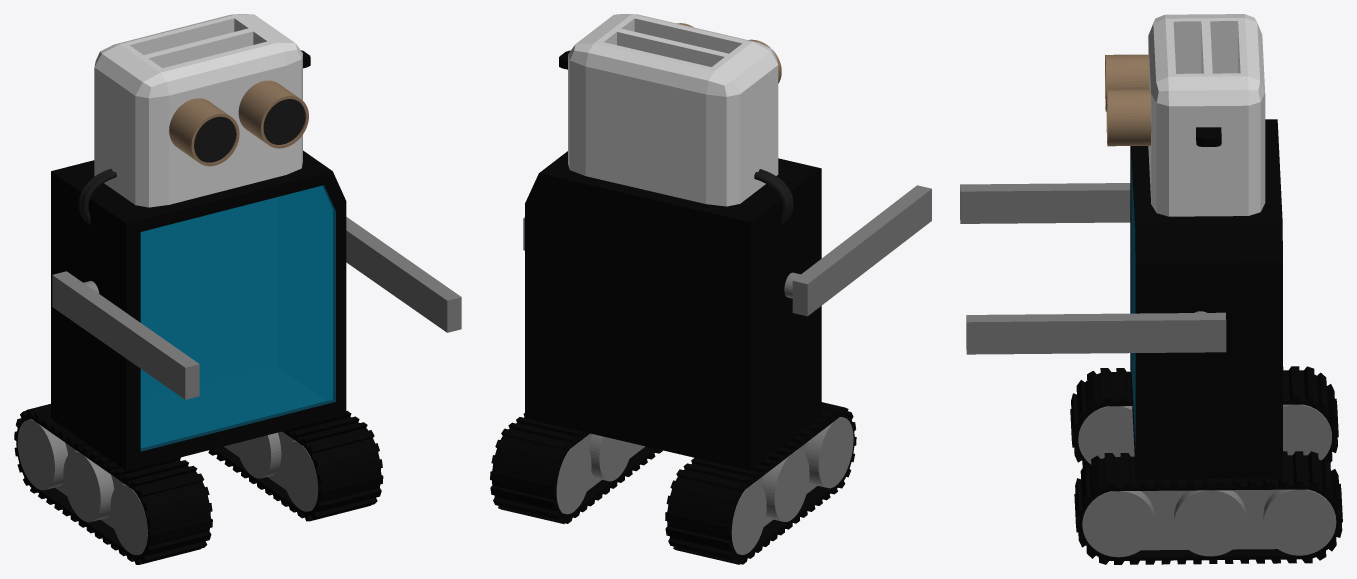
File: toaster.glb
3 views of the same model, side by side, from view 1: azimuth 30°, elevation 25°; view 2: azimuth 150°, elevation 25°; view 3: azimuth 270°, elevation 25° (orthographic).
Parts seen in each view (by area): view 1: Cylinder.010_primitive1, Cylinder.010_primitive5, Cylinder.010_primitive2, Cylinder.010_primitive4, Cylinder.010_primitive3, Cylinder.010_primitive6, Cylinder.010_primitive0; view 2: Cylinder.010_primitive1, Cylinder.010_primitive2, Cylinder.010_primitive3, Cylinder.010_primitive4, Cylinder.010_primitive0; view 3: Cylinder.010_primitive1, Cylinder.010_primitive4, Cylinder.010_primitive2, Cylinder.010_primitive3, Cylinder.010_primitive6, Cylinder.010_primitive5.
Part boxes in pixels (x1,y1,x2,y2): Cylinder.010_primitive1: (51,150,346,471); Cylinder.010_primitive5: (140,185,335,451); Cylinder.010_primitive2: (94,14,302,207); Cylinder.010_primitive4: (17,217,461,555); Cylinder.010_primitive3: (14,50,383,564); Cylinder.010_primitive6: (169,80,308,166); Cylinder.010_primitive0: (78,99,305,224); Cylinder.010_primitive1: (525,151,821,470); Cylinder.010_primitive2: (568,14,778,206); Cylinder.010_primitive3: (490,50,856,564); Cylinder.010_primitive4: (523,185,931,554); Cylinder.010_primitive0: (754,169,793,224); Cylinder.010_primitive1: (1130,119,1282,479); Cylinder.010_primitive4: (960,183,1336,557); Cylinder.010_primitive2: (1148,14,1265,216); Cylinder.010_primitive3: (1070,127,1342,564); Cylinder.010_primitive6: (1105,54,1151,146); Cylinder.010_primitive5: (1131,159,1135,441).
Bounding box in the file's own units: 2.55 × 3.9 × 2.95.
